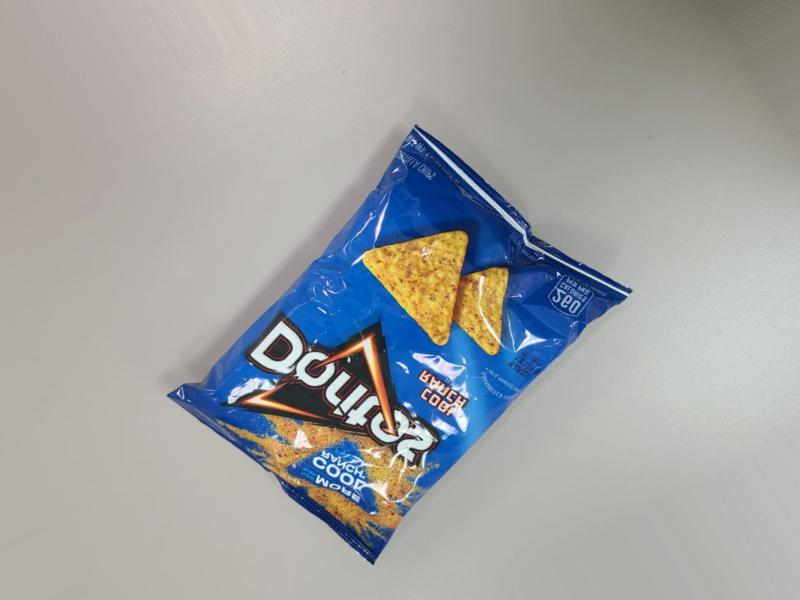doritos: (194, 206, 628, 597)
